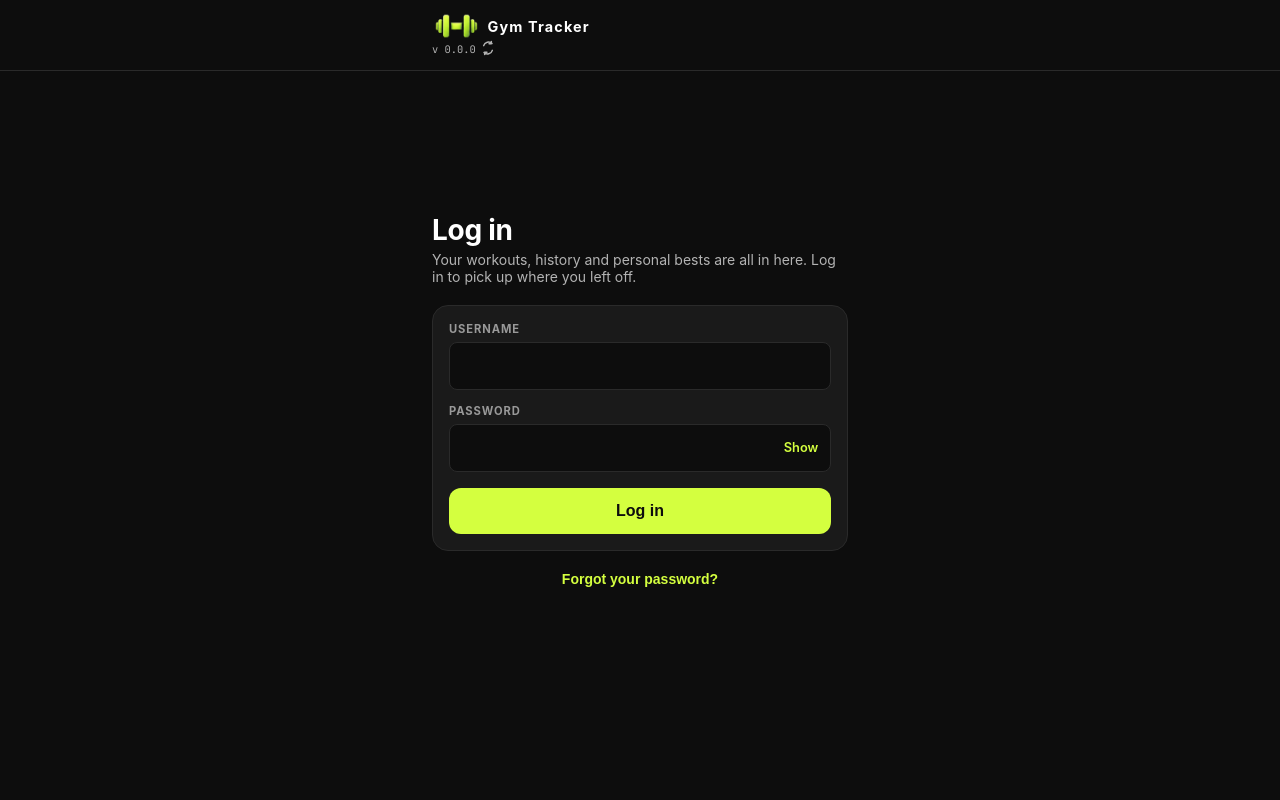
logging in › picks up the workout already in progress rather than offering to start a second
The image size is (1280, 800).
In the field labelled "Username": (640, 366) [449, 342, 831, 390], type "kapekost"
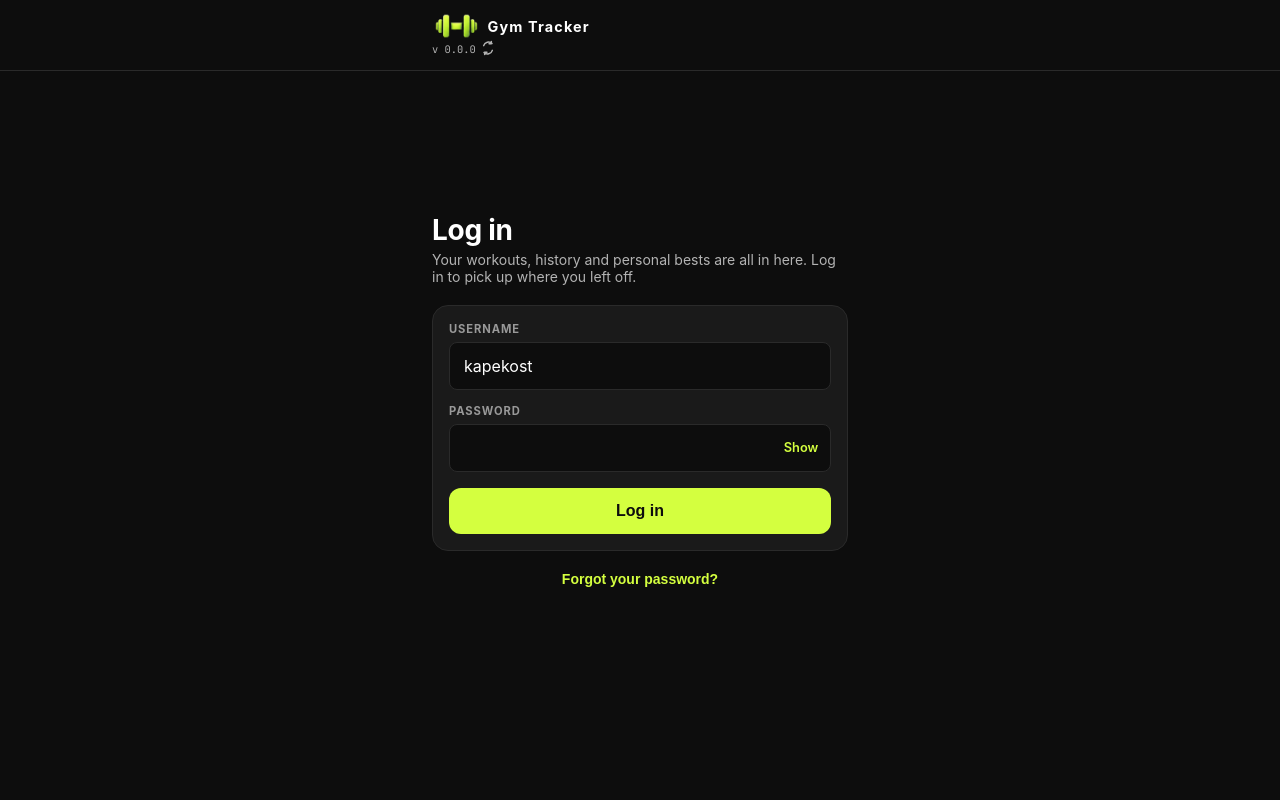
In the password field labelled "Password": (640, 448) [449, 424, 831, 472], type "correct horse battery"
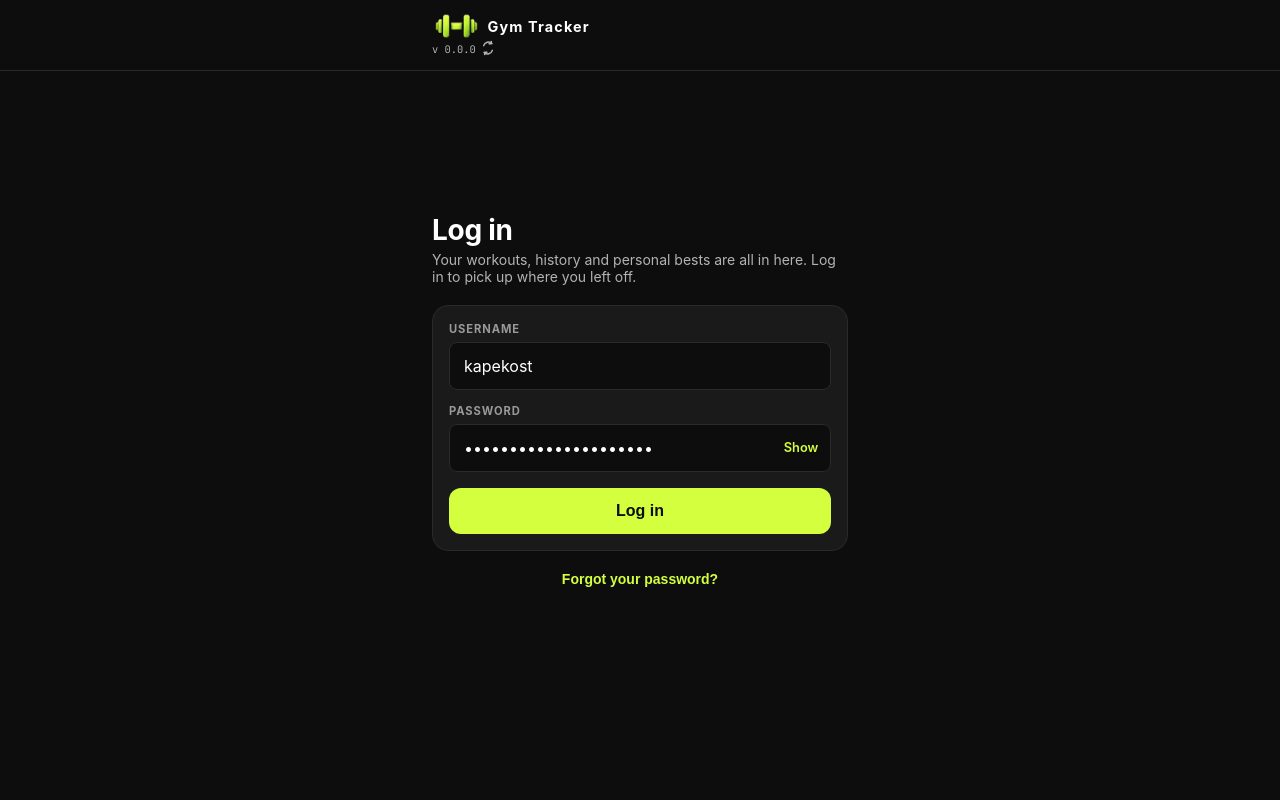
Click the button "Log in": (640, 511) [449, 488, 831, 534]
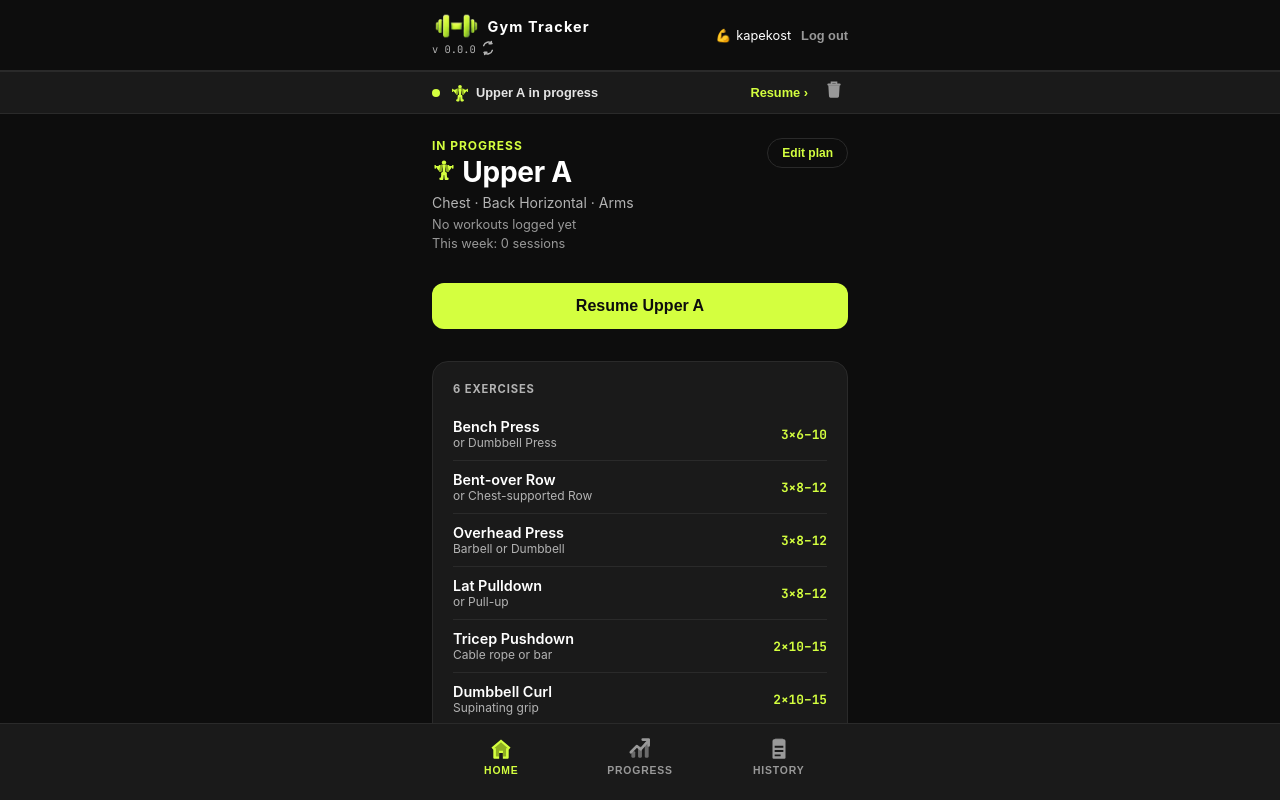
Check: the text "In progress" is shown, box [432, 138, 523, 153]
Check: the button "Resume Upper A" is shown, box [432, 283, 848, 329]
Check: the text "Upper A in progress" is shown, box [450, 83, 598, 103]
